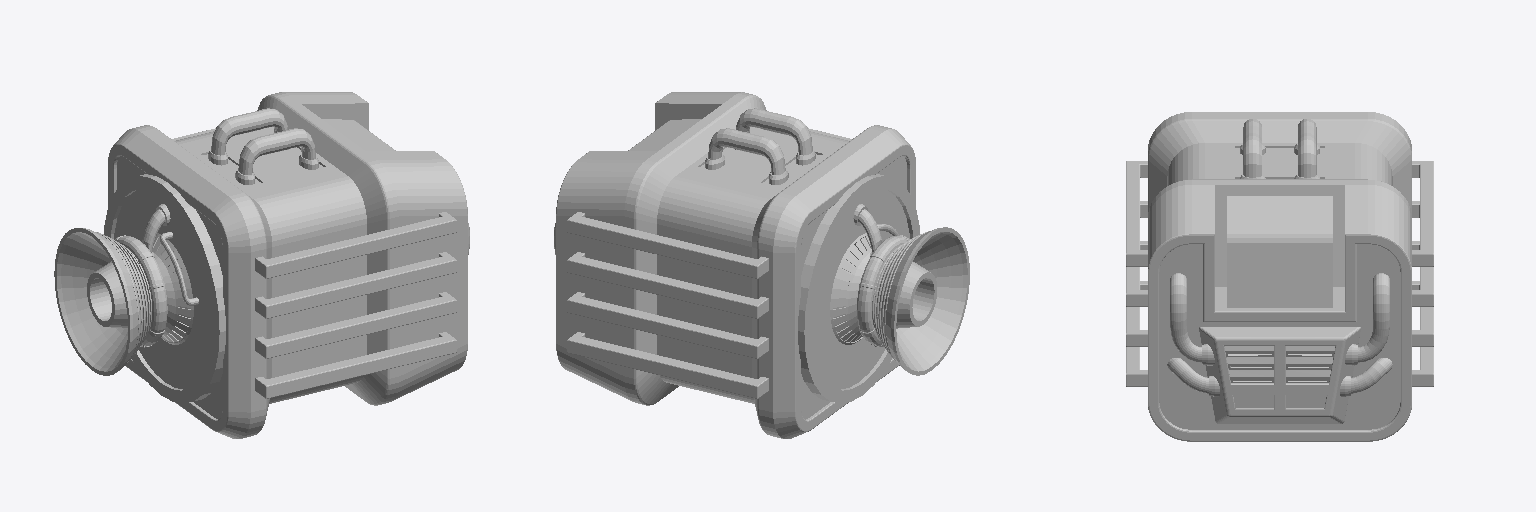
Rendered from impulse_thruster.obj.
The picture shows the model from 3 angles: view 1: azimuth 30°, elevation 25°; view 2: azimuth 150°, elevation 25°; view 3: azimuth 270°, elevation 25°; orthographic projection.
Parts seen in each view (by area): view 1: thruster.002; view 2: thruster.002; view 3: thruster.002.
Part boxes in pixels (left/top/right/bottom): thruster.002: left=54, top=92, right=469, bottom=438; thruster.002: left=554, top=92, right=969, bottom=438; thruster.002: left=1126, top=112, right=1433, bottom=441.
Size of the model in its own units: 1.97 by 1.5 by 1.61.